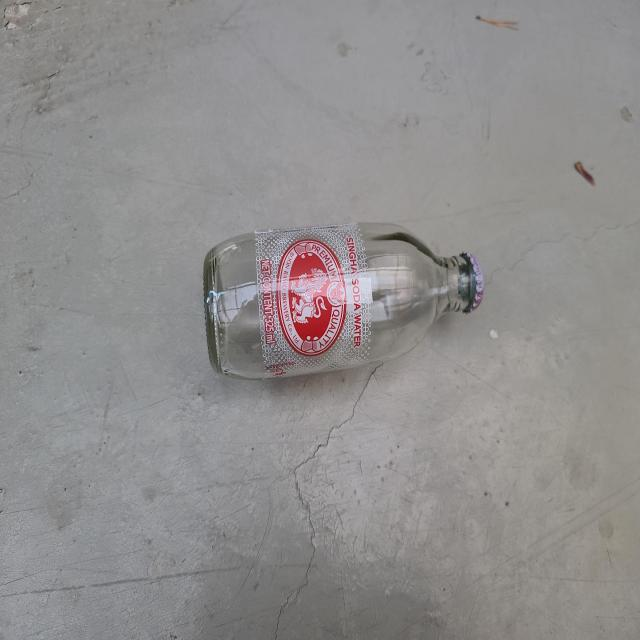glass: (204, 222, 484, 378)
